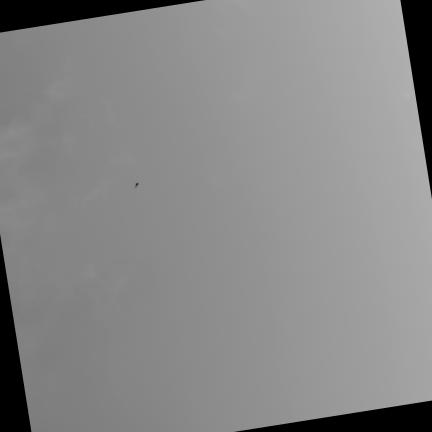Shahed: (135, 183, 138, 186)
